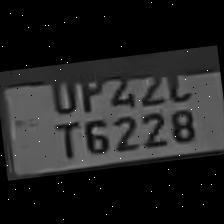2: (100, 64, 138, 108), (130, 62, 166, 104), (134, 106, 168, 150), (107, 109, 140, 153)
6: (76, 114, 110, 155)
8: (164, 102, 198, 144)
C: (160, 55, 193, 100)
P: (70, 65, 106, 112)
T: (47, 116, 83, 160)
U: (43, 66, 79, 114)
